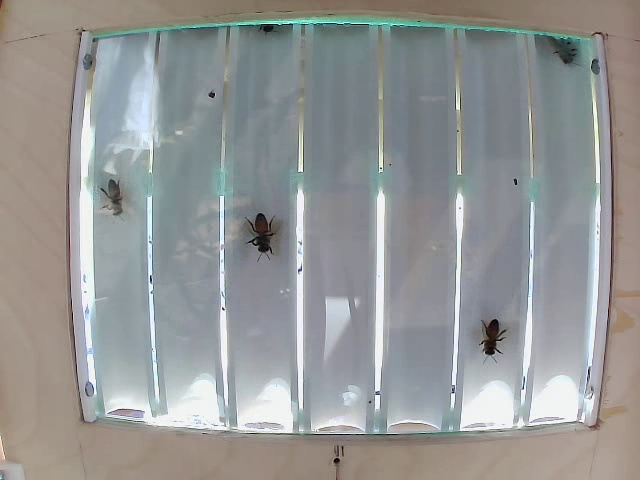bee: (91, 167, 159, 231), (459, 304, 508, 368), (235, 199, 285, 258)
